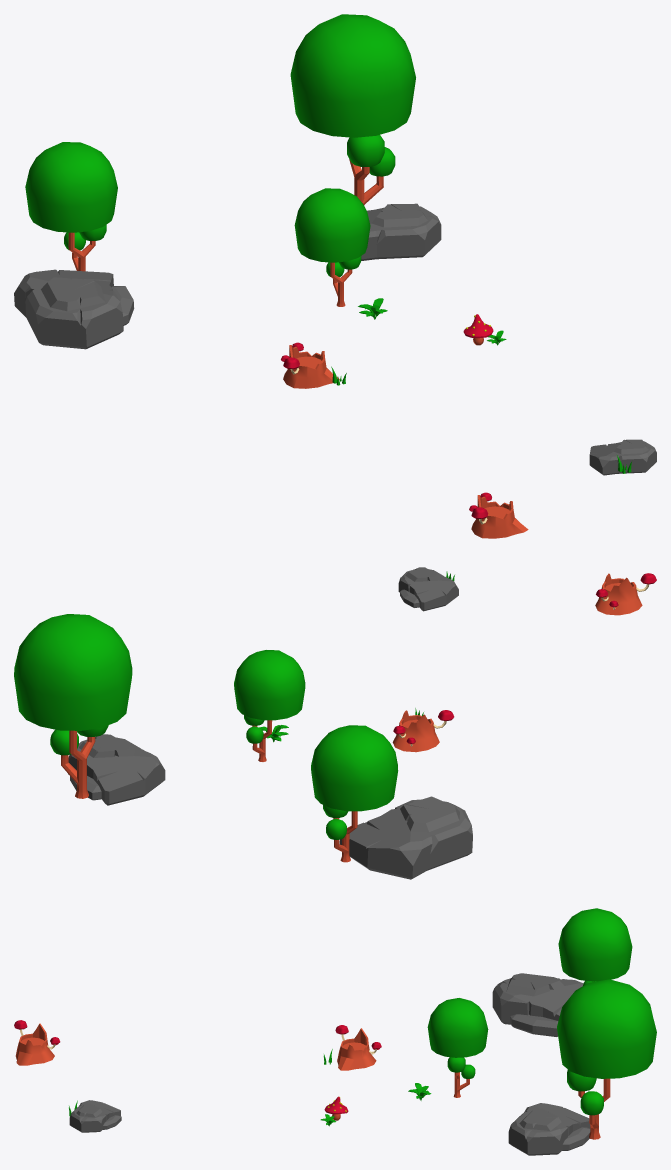
Rendered from BackGround_2.fbx.
3 views of the same model, one above another, from view 1: azimuth 30°, elevation 25°; view 2: azimuth 150°, elevation 25°; view 3: azimuth 270°, elevation 25° (orthographic). The views are drawn at different scales.
Parts seen in each view (by area): view 1: Tree, Tree4, Stone2, Tree5, Stone1, Stone, Tree2, Tree7; view 2: Tree, Stone2, Tree4, Tree5, Stone1, Stone, Tree2, Tree7; view 3: Tree, Tree4, Stone2, Tree5, Stone1, Stone, Tree7, Tree2.
Boxes of the visible parts, box(x1,y1,x2,y2) form: Tree: box(290, 14, 415, 205); Tree4: box(25, 142, 117, 271); Stone2: box(14, 269, 134, 349); Tree5: box(294, 188, 370, 306); Stone1: box(361, 203, 441, 260); Stone: box(589, 439, 656, 475); Tree2: box(469, 492, 528, 538); Tree7: box(281, 342, 339, 388); Tree: box(14, 614, 132, 798); Stone2: box(339, 796, 472, 879); Tree4: box(311, 725, 398, 862); Tree5: box(234, 650, 305, 761); Stone1: box(68, 734, 165, 805); Stone: box(398, 567, 458, 611); Tree2: box(595, 573, 656, 615); Tree7: box(392, 710, 454, 752); Tree: box(557, 979, 656, 1139); Tree4: box(558, 908, 632, 985); Stone2: box(492, 973, 583, 1036); Tree5: box(427, 998, 488, 1097); Stone1: box(508, 1103, 590, 1155); Stone: box(69, 1100, 121, 1132); Tree7: box(335, 1025, 381, 1070); Tree2: box(14, 1020, 60, 1065).
Size of what is drawn, in the model's own units: 2522 by 1140 by 4154.
1 material, 1 textured.
